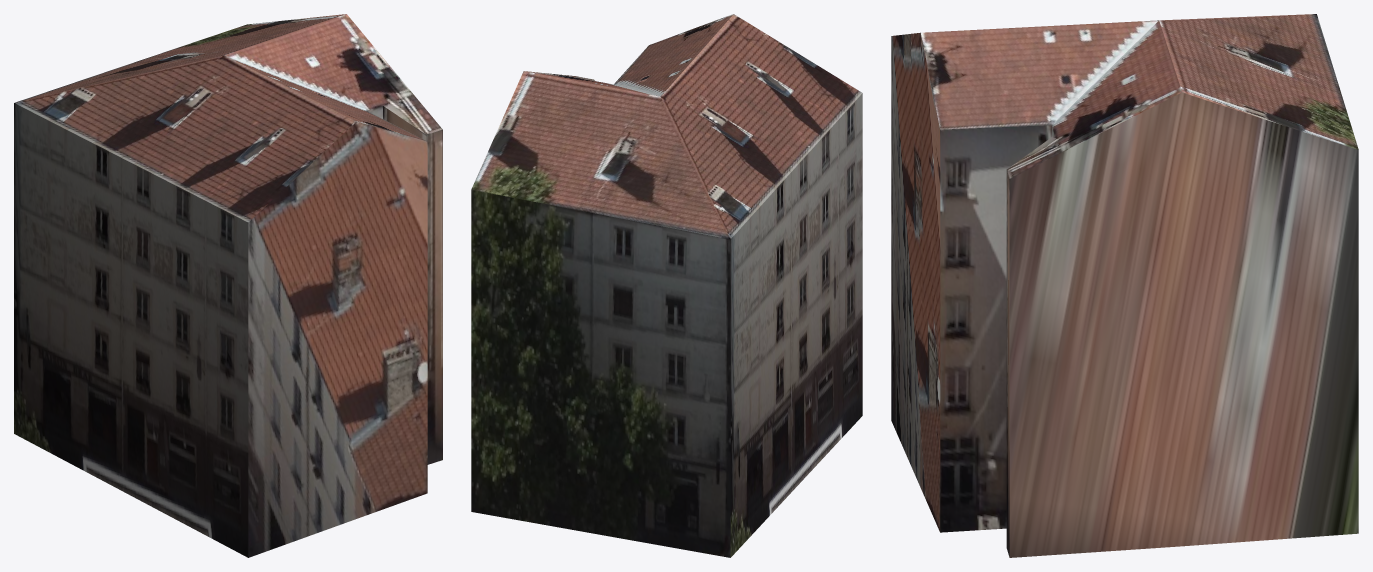
3 views of the same model, side by side, from view 1: azimuth 30°, elevation 25°; view 2: azimuth 150°, elevation 25°; view 3: azimuth 270°, elevation 25° (orthographic). The views are drawn at different scales.
Visible parts, largest first — view 1: Z_UP; view 2: Z_UP; view 3: Z_UP.
Part boxes in pixels (<box>): Z_UP: <box>14,14,442,557</box>; Z_UP: <box>471,14,862,557</box>; Z_UP: <box>891,14,1358,557</box>.
Size of the model in its own units: 17.6 by 22.67 by 21.11.
2 materials, 1 textured.
